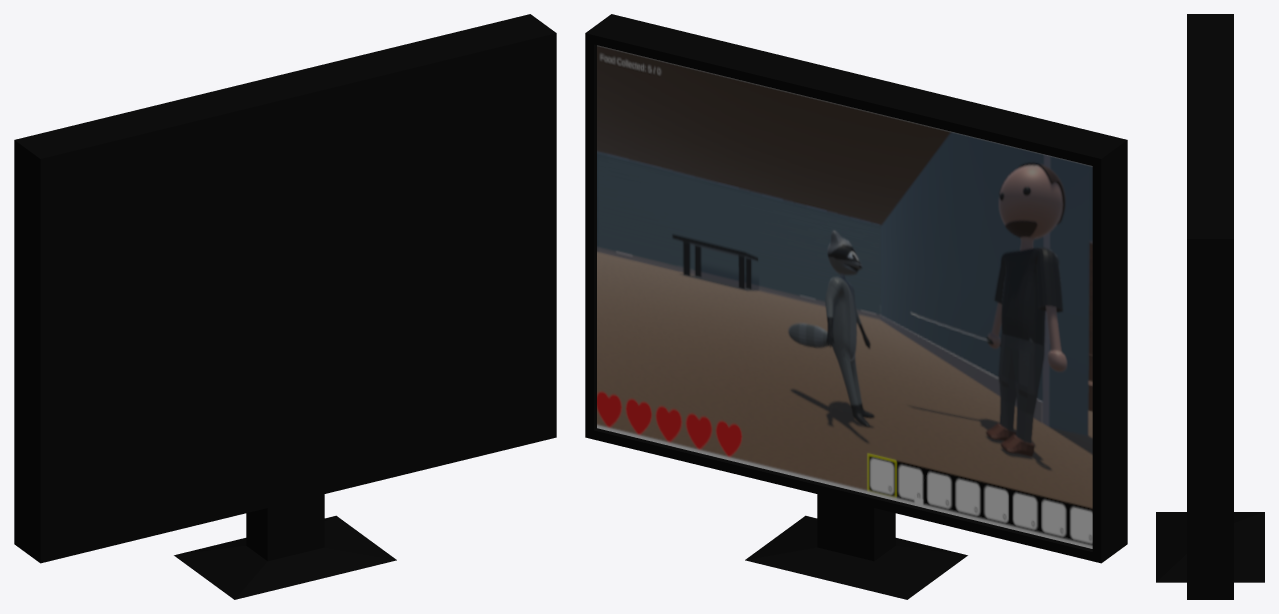
The model's file is Monitor.fbx.
The picture shows the model from 3 angles, left to right: view 1: azimuth 30°, elevation 25°; view 2: azimuth 150°, elevation 25°; view 3: azimuth 270°, elevation 25°; orthographic projection. The views are drawn at different scales.
Parts seen in each view (by area): view 1: Monitor; view 2: Monitor; view 3: Monitor.
Part boxes in pixels (x1,y1,x2,y2): Monitor: (14, 14, 556, 599); Monitor: (585, 14, 1127, 599); Monitor: (1156, 14, 1264, 599).
Size of the model in its own units: 0.3977 by 0.0814 by 0.347.
